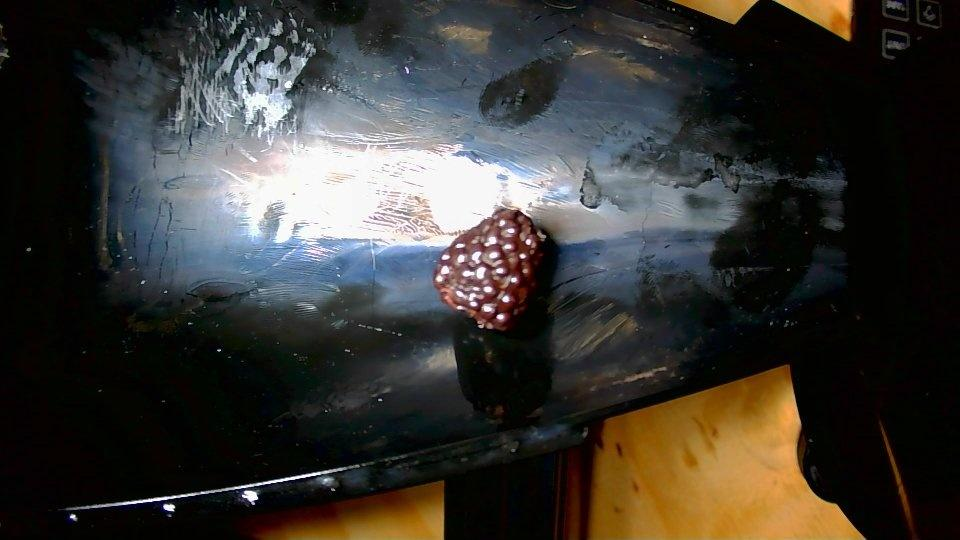berry: (434, 209, 545, 330)
